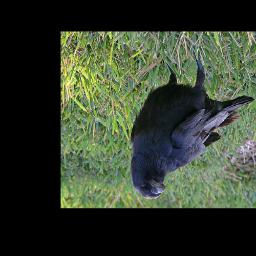Crow: (130, 49, 255, 200)
